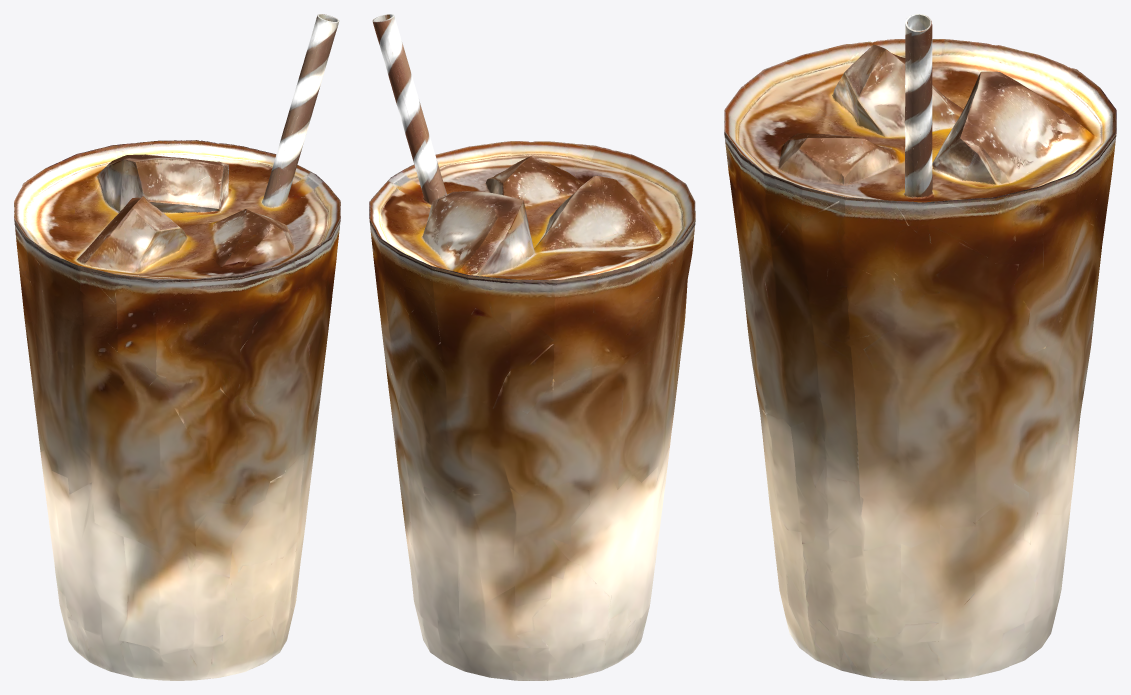
The model's file is iced-latte.glb.
3 renders of one model, left to right at view 1: azimuth 30°, elevation 25°; view 2: azimuth 150°, elevation 25°; view 3: azimuth 270°, elevation 25°, orthographic. The views are drawn at different scales.
Visible parts, largest first — view 1: Mesh_0; view 2: Mesh_0; view 3: Mesh_0.
Boxes of the visible parts, box(x1,y1,x2,y2) form: Mesh_0: box(14, 14, 340, 680); Mesh_0: box(369, 14, 695, 680); Mesh_0: box(724, 14, 1116, 680).
Bounding box in the file's own units: 1.02 × 1.9 × 0.9728.
1 material, 1 textured.
